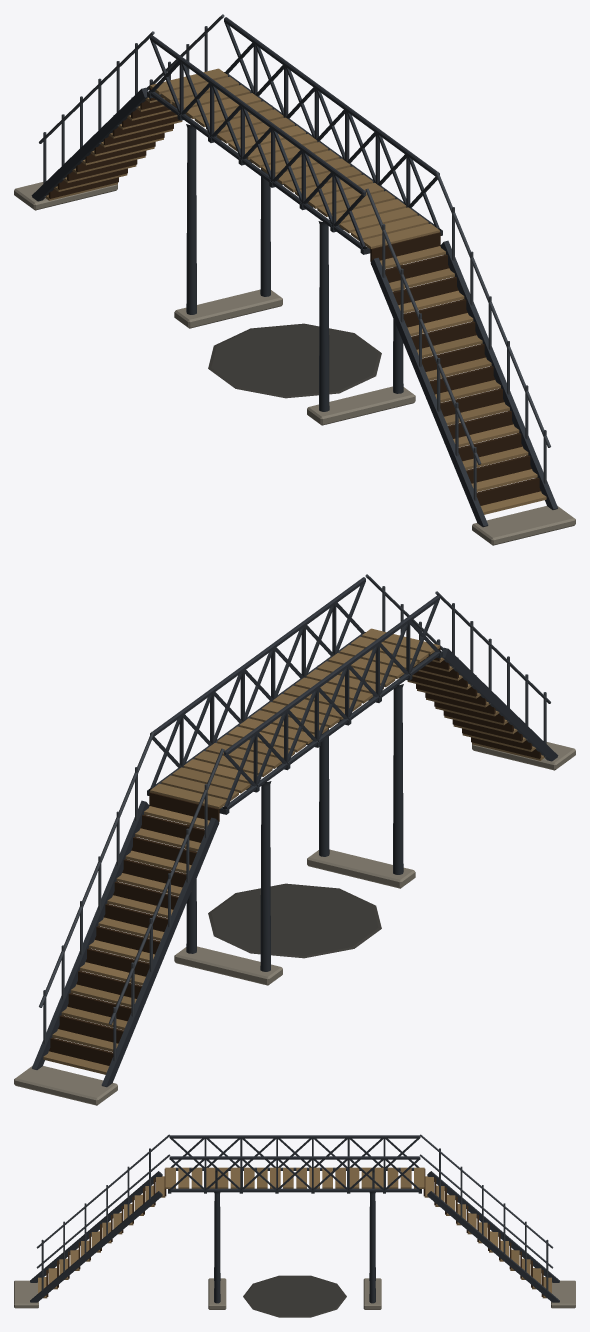
Rendered from footbridge-span.glb.
The picture shows the model from 3 angles, top to bottom: view 1: azimuth 30°, elevation 25°; view 2: azimuth 150°, elevation 25°; view 3: azimuth 270°, elevation 25°; orthographic projection. The views are drawn at different scales.
Visible parts, largest first — view 1: footbridge_span; view 2: footbridge_span; view 3: footbridge_span.
Boxes of the visible parts, box(x1,y1,x2,y2) form: footbridge_span: box(14, 14, 575, 545); footbridge_span: box(14, 574, 575, 1105); footbridge_span: box(14, 1134, 575, 1317).
Bounding box in the file's own units: 2.77 × 4.69 × 15.7.
